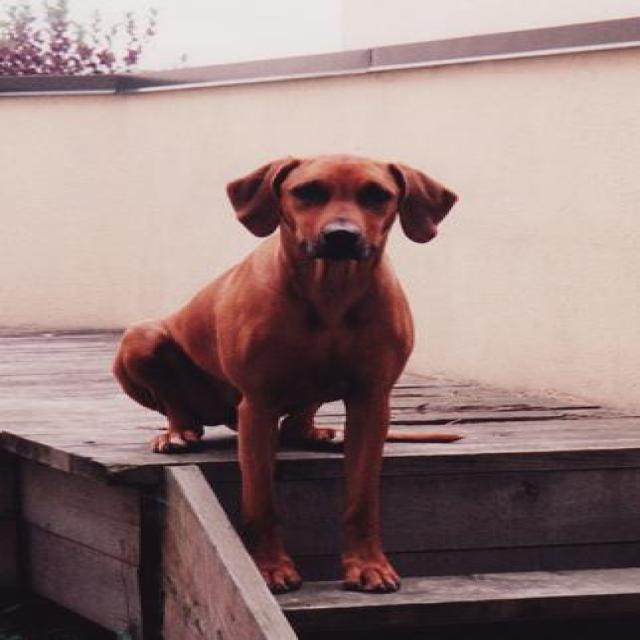rhodesian_ridgeback: (109, 152, 457, 596)
